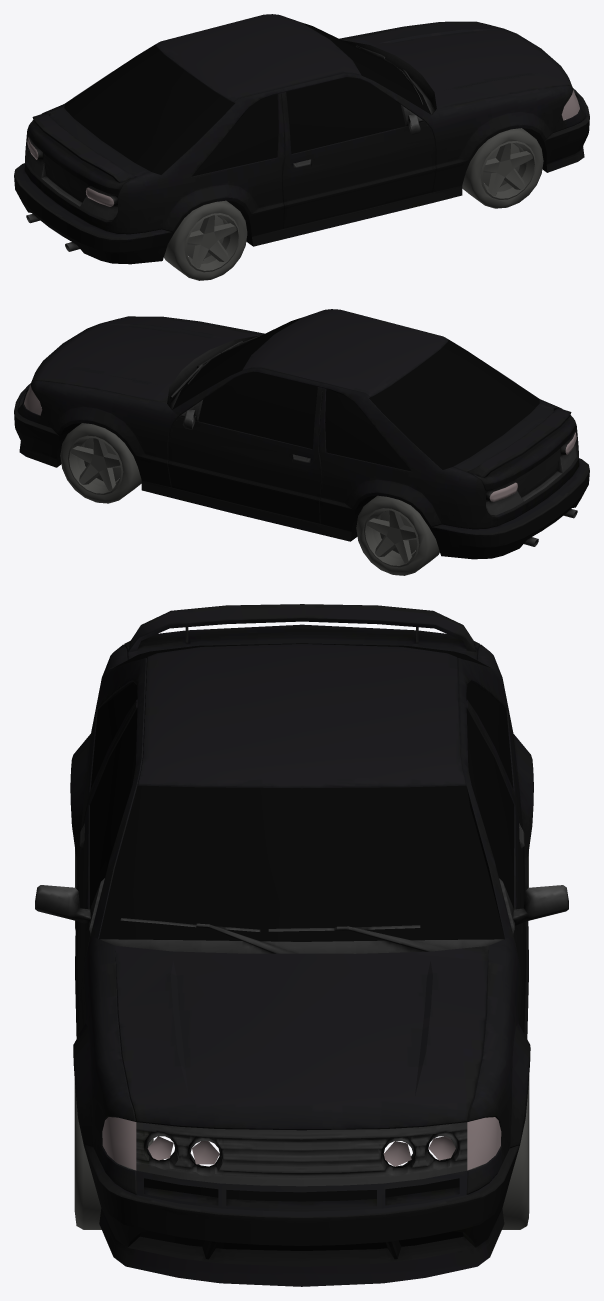
The model's file is pc-coupe-black.lod0.glb.
3 views of the same model, one above another, from view 1: azimuth 30°, elevation 25°; view 2: azimuth 150°, elevation 25°; view 3: azimuth 270°, elevation 25° (orthographic). The views are drawn at different scales.
Parts seen in each view (by area): view 1: Coupe Body_Body_0, Coupe Body_Glass_0; view 2: Coupe Body_Body_0, Coupe Body_Glass_0; view 3: Coupe Body_Body_0, Coupe Body_Glass_0.
Boxes of the visible parts, x1,y1,x2,y2 form: Coupe Body_Body_0: (14, 14, 589, 264); Coupe Body_Glass_0: (27, 22, 579, 280); Coupe Body_Body_0: (14, 309, 589, 559); Coupe Body_Glass_0: (24, 317, 576, 575); Coupe Body_Body_0: (35, 604, 568, 1286); Coupe Body_Glass_0: (74, 643, 529, 1229).
Size of the model in its own units: 4.24 by 1.28 by 1.88.
Materials: 2 (1 with a texture image).
